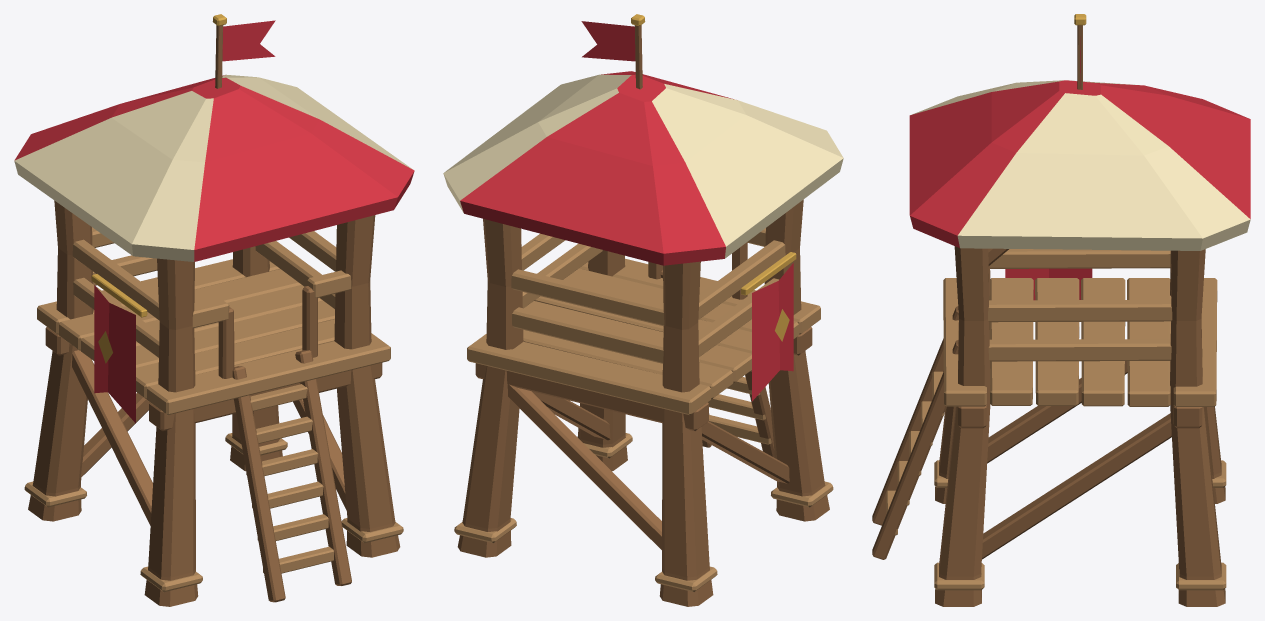
File: WallRush_Festival_Watchtower_v1.glb
The picture shows the model from 3 angles, left to right: view 1: azimuth 30°, elevation 25°; view 2: azimuth 150°, elevation 25°; view 3: azimuth 270°, elevation 25°; orthographic projection. The views are drawn at different scales.
Visible parts, largest first — view 1: Tower_Structure_Mesh, Sculpted_Hip_Roof, Tower_Platform_Mesh, Tower_BannerPennant_Mesh, Tower_Fittings_Mesh; view 2: Tower_Structure_Mesh, Sculpted_Hip_Roof, Tower_Platform_Mesh, Tower_BannerPennant_Mesh, Tower_Fittings_Mesh; view 3: Sculpted_Hip_Roof, Tower_Structure_Mesh, Tower_Platform_Mesh, Tower_Fittings_Mesh, Tower_BannerPennant_Mesh.
Part boxes in pixels (x1,y1,x2,y2): Tower_Structure_Mesh: (28, 200, 400, 606); Sculpted_Hip_Roof: (14, 74, 414, 261); Tower_Platform_Mesh: (37, 259, 390, 602); Tower_BannerPennant_Mesh: (94, 20, 275, 423); Tower_Fittings_Mesh: (24, 14, 403, 592); Tower_Structure_Mesh: (457, 199, 829, 606); Sculpted_Hip_Roof: (443, 71, 843, 265); Tower_Platform_Mesh: (467, 258, 820, 457); Tower_BannerPennant_Mesh: (581, 21, 793, 401); Tower_Fittings_Mesh: (454, 14, 833, 592); Sculpted_Hip_Roof: (909, 80, 1250, 250); Tower_Structure_Mesh: (935, 246, 1225, 606); Tower_Platform_Mesh: (872, 278, 1217, 559); Tower_Fittings_Mesh: (934, 14, 1226, 590); Tower_BannerPennant_Mesh: (1005, 25, 1092, 300).
Size of the model in its own units: 1.96 by 3.38 by 2.18.
